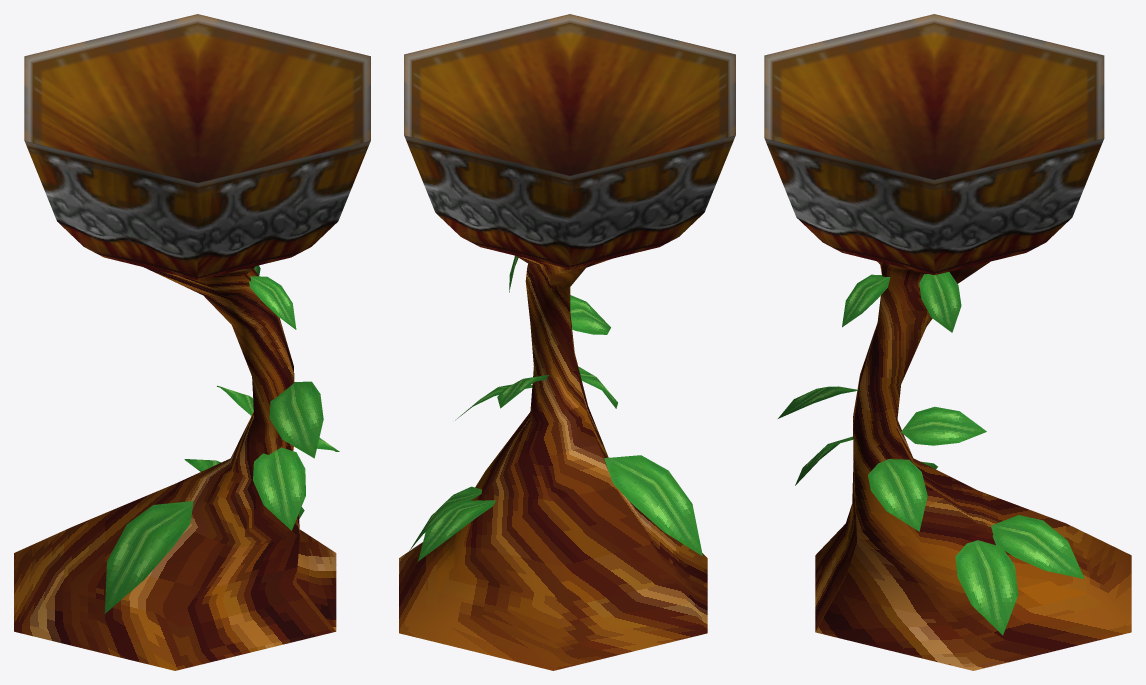
The model's file is BRAZIERSMALL.fbx.
The picture shows the model from 3 angles, left to right: view 1: azimuth 30°, elevation 25°; view 2: azimuth 150°, elevation 25°; view 3: azimuth 270°, elevation 25°; orthographic projection. The views are drawn at different scales.
Visible parts, largest first — view 1: BRAZIERSMALL; view 2: BRAZIERSMALL; view 3: BRAZIERSMALL.
Part boxes in pixels (<box>): BRAZIERSMALL: <box>14,14,370,670</box>; BRAZIERSMALL: <box>399,14,735,670</box>; BRAZIERSMALL: <box>764,14,1131,670</box>.
Bounding box in the file's own units: 4622 × 6473 × 4323.
Materials: 3 (3 with a texture image).
